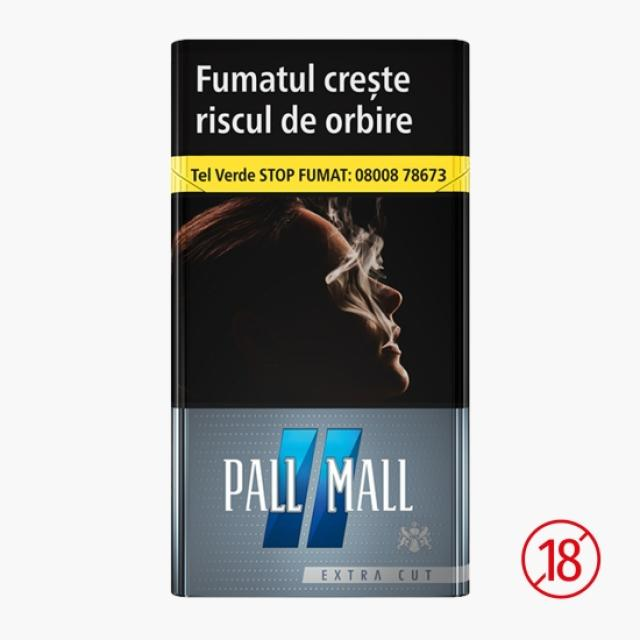pallmall: (161, 42, 476, 596)
